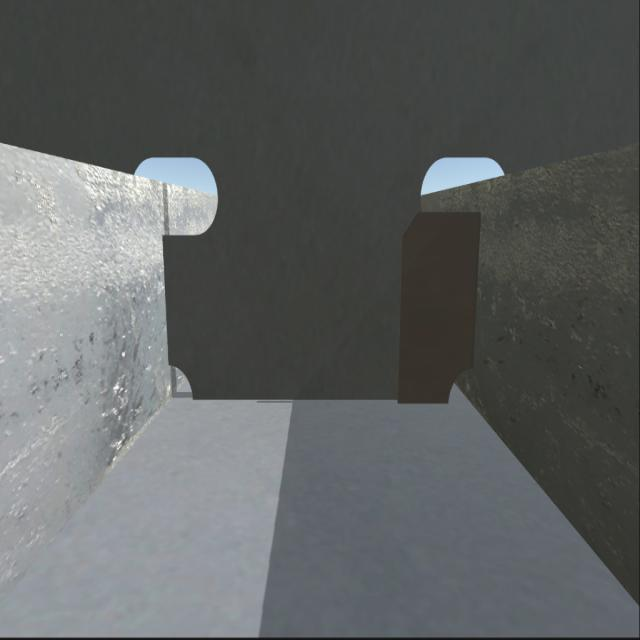fillet_hole: (163, 364, 197, 404), (446, 364, 471, 406)
fillet_yong_jeop_jang: (188, 399, 447, 408)
longi_yong_jeop_jang: (465, 211, 483, 362), (158, 235, 175, 360)
plate_CP03: (396, 211, 476, 405)
